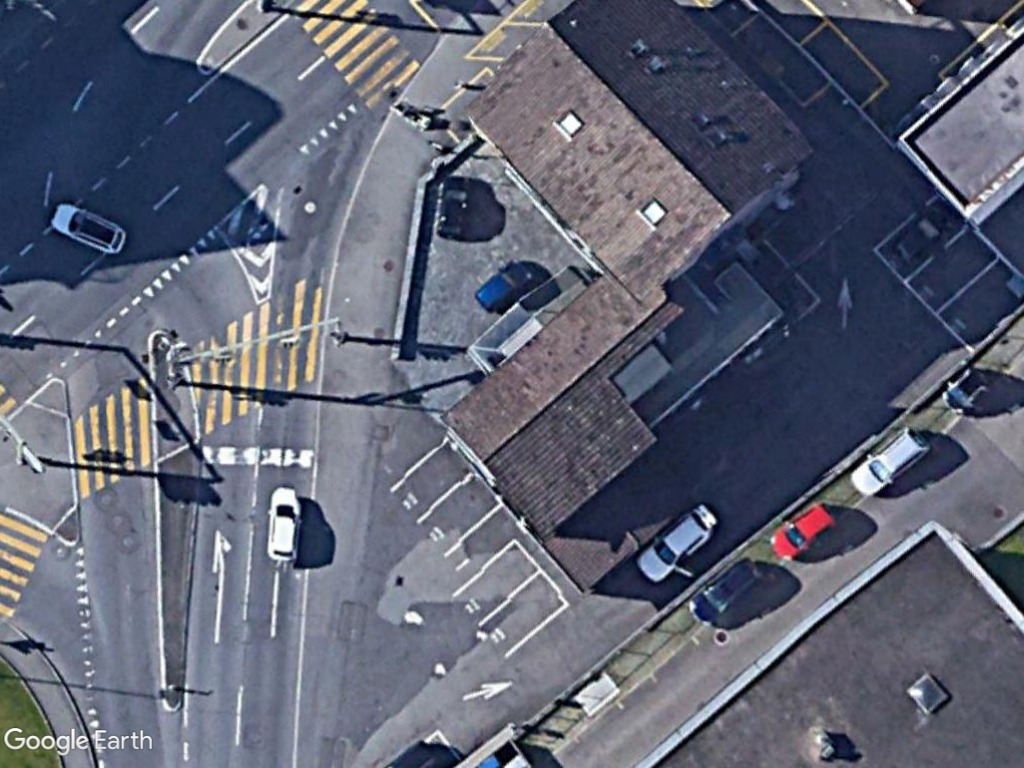car: (631, 507, 722, 585), (845, 424, 933, 501), (684, 555, 766, 623), (766, 501, 837, 564), (48, 200, 126, 257), (260, 483, 303, 565), (472, 260, 533, 314)
